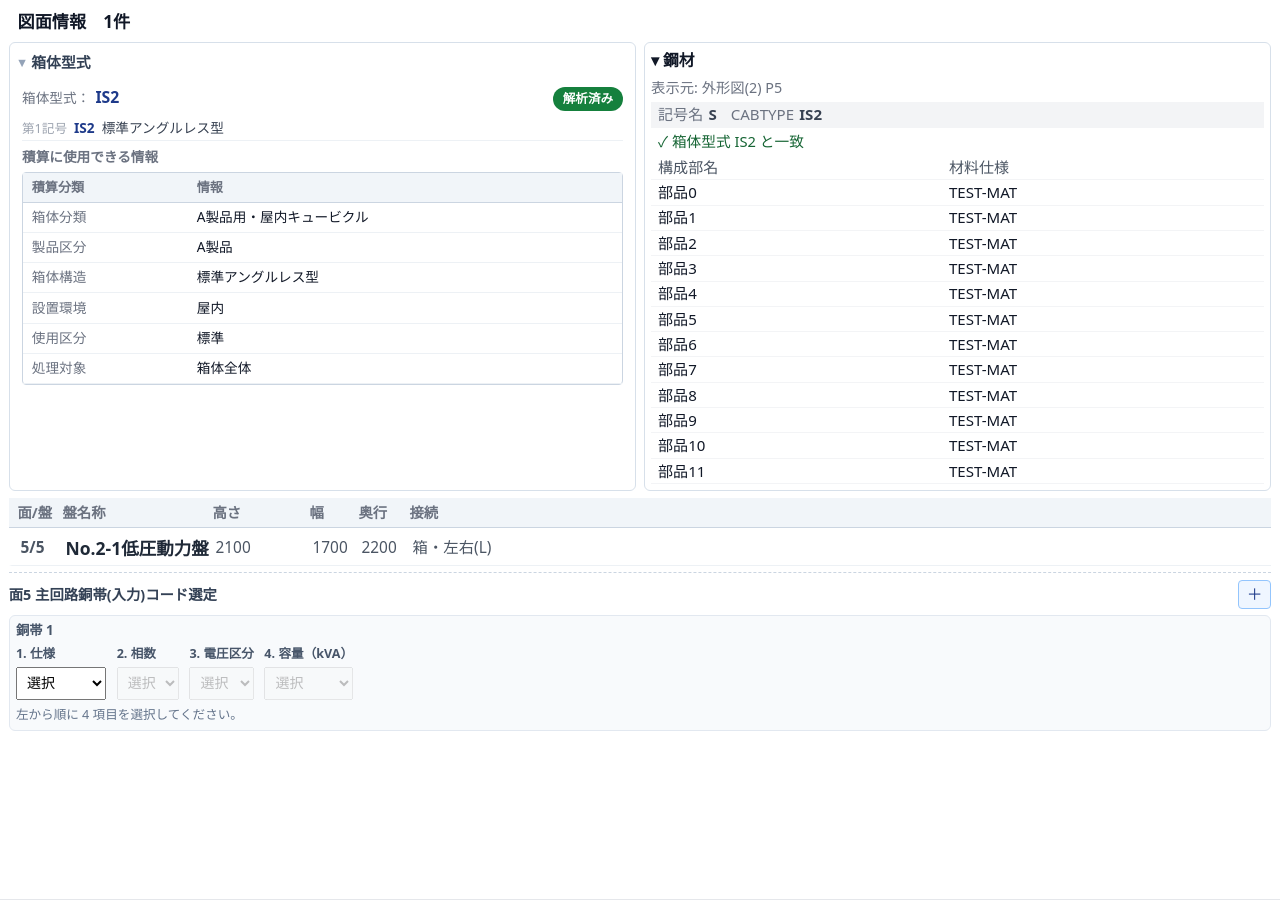
PanelInfo: 箱体型式タブと鋼材欄 (追加機能) › 箱体型式と鋼材の開閉は互いに独立 › can fold both at the same time
Click the button "▾ 箱体型式". click: (61, 62)
box: [16,50,629,75]
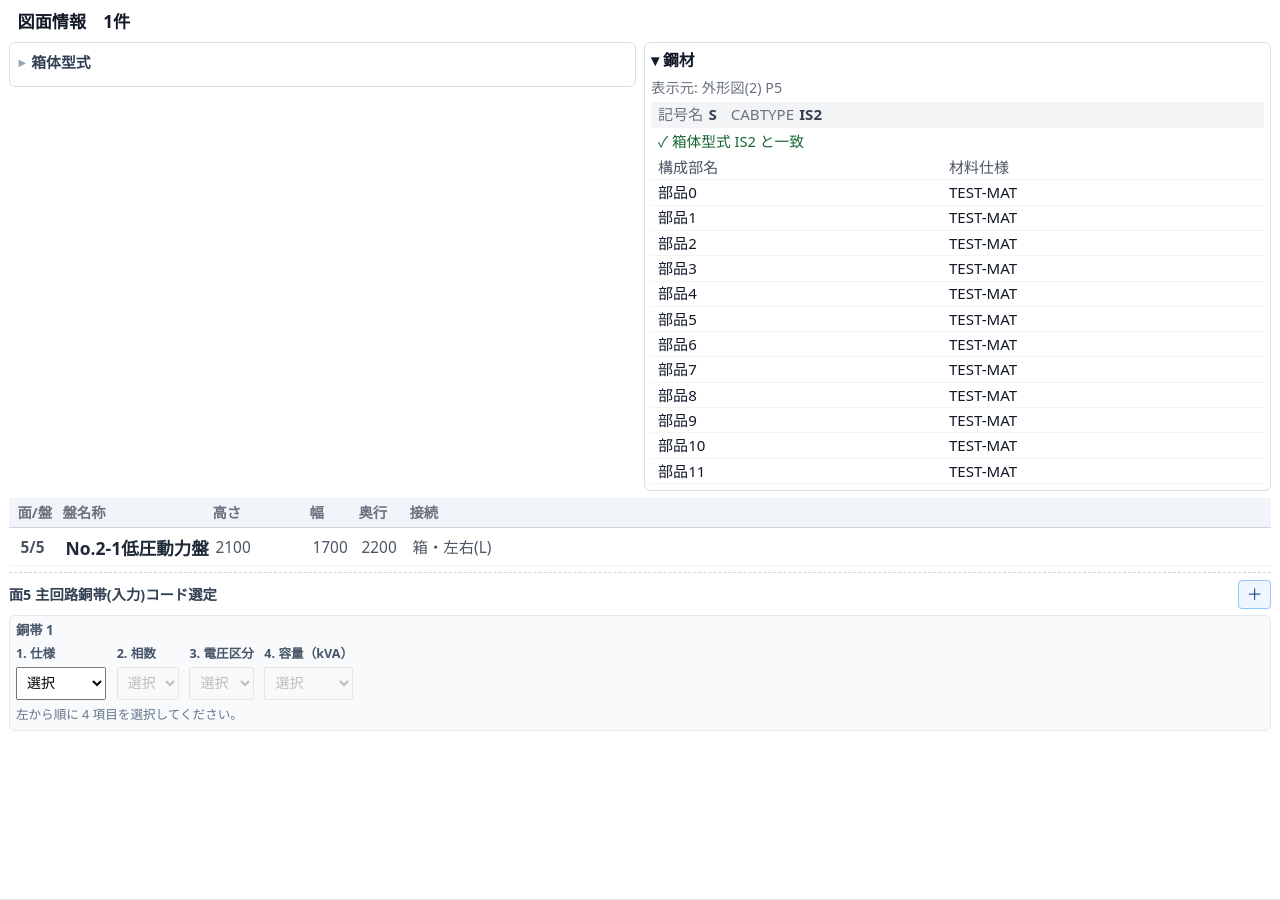
Click the button "▾ 鋼材". click: (673, 61)
box: [651,50,695,73]
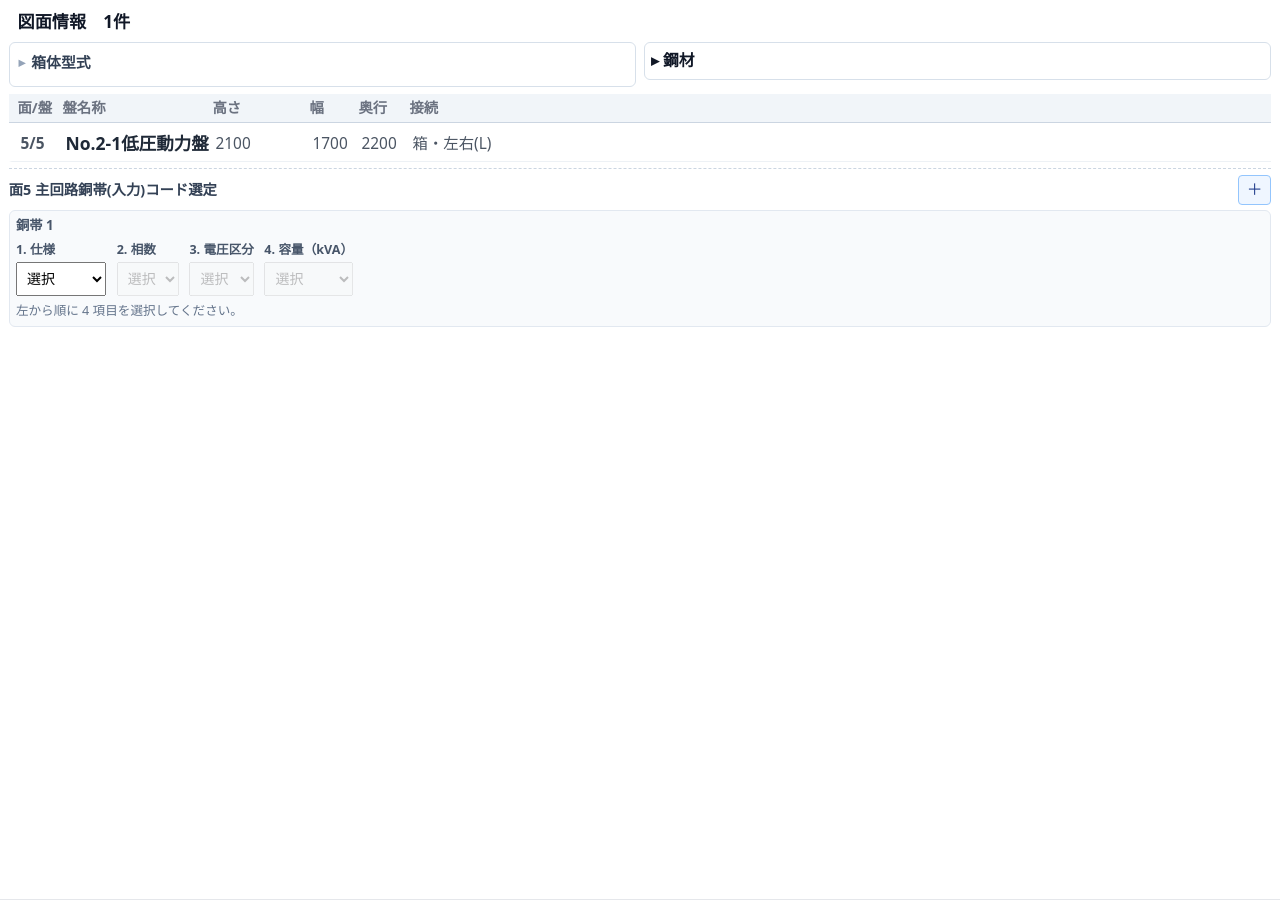
Result: the text "部品11" is gone
